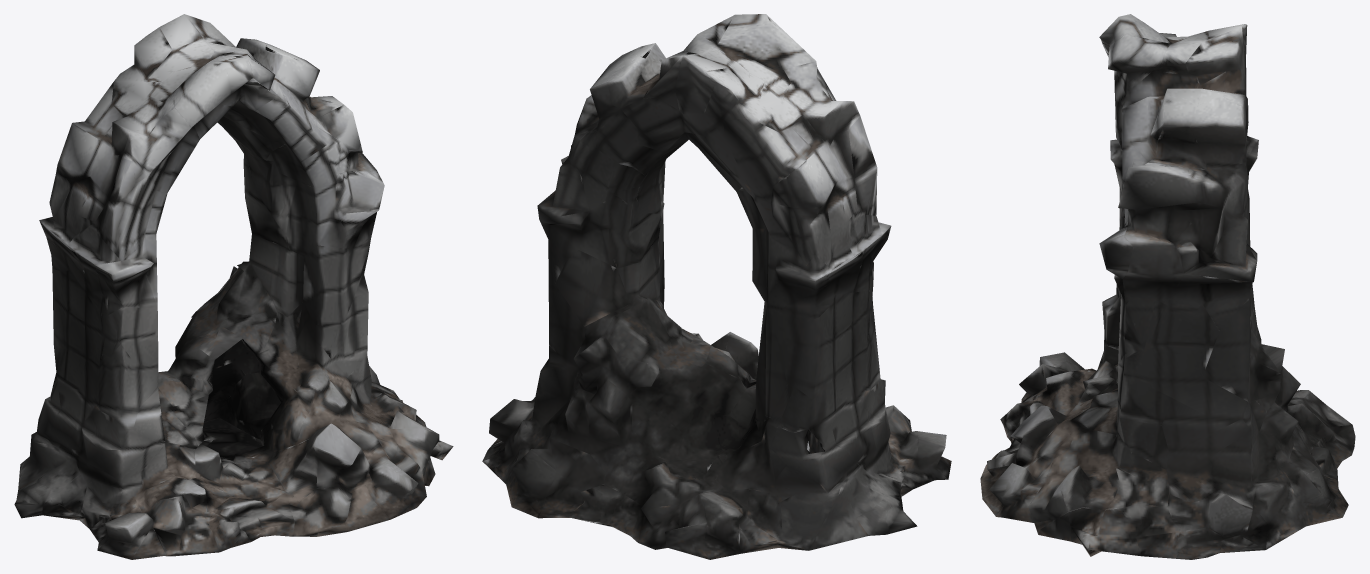
The model's file is collapsed_archway.glb.
3 renders of one model, left to right at view 1: azimuth 30°, elevation 25°; view 2: azimuth 150°, elevation 25°; view 3: azimuth 270°, elevation 25°, orthographic. The views are drawn at different scales.
Size of the model in its own units: 1.87 by 2 by 1.54.
1 material, 1 textured.
